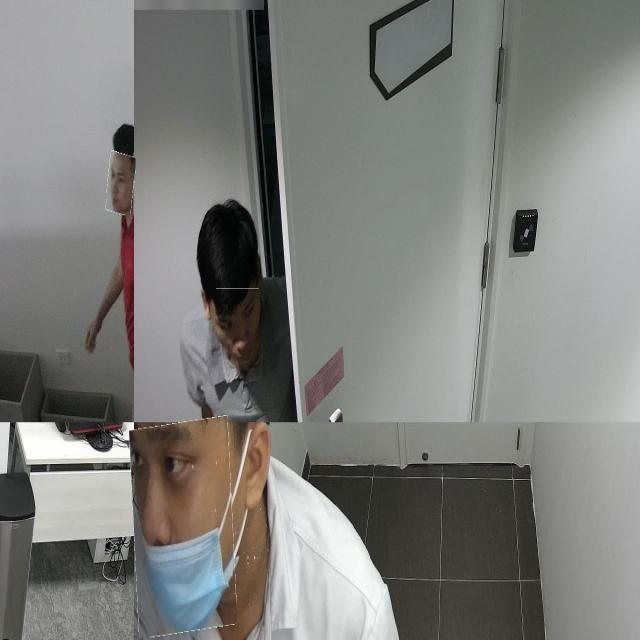hairnet: (131, 418, 235, 634)
